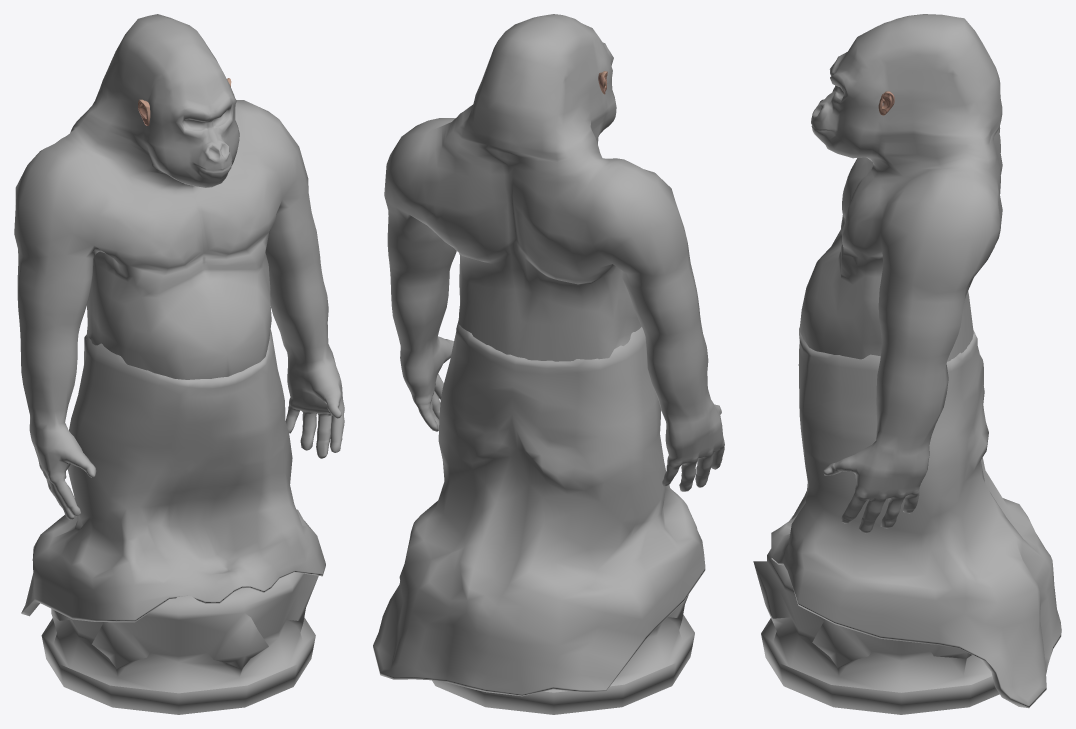
File: KongoGoliraChocoRikishiZou.fbx
The picture shows the model from 3 angles, left to right: view 1: azimuth 30°, elevation 25°; view 2: azimuth 150°, elevation 25°; view 3: azimuth 270°, elevation 25°; orthographic projection. The views are drawn at different scales.
Parts seen in each view (by area): view 1: KongoGoliraChocoZou; view 2: KongoGoliraChocoZou; view 3: KongoGoliraChocoZou.
Boxes of the visible parts, <box> form: KongoGoliraChocoZou: <box>14,14,344,714</box>; KongoGoliraChocoZou: <box>373,14,724,714</box>; KongoGoliraChocoZou: <box>753,14,1061,714</box>.
Size of the model in its own units: 3.98 by 7.93 by 3.48.
2 materials, 1 textured.
